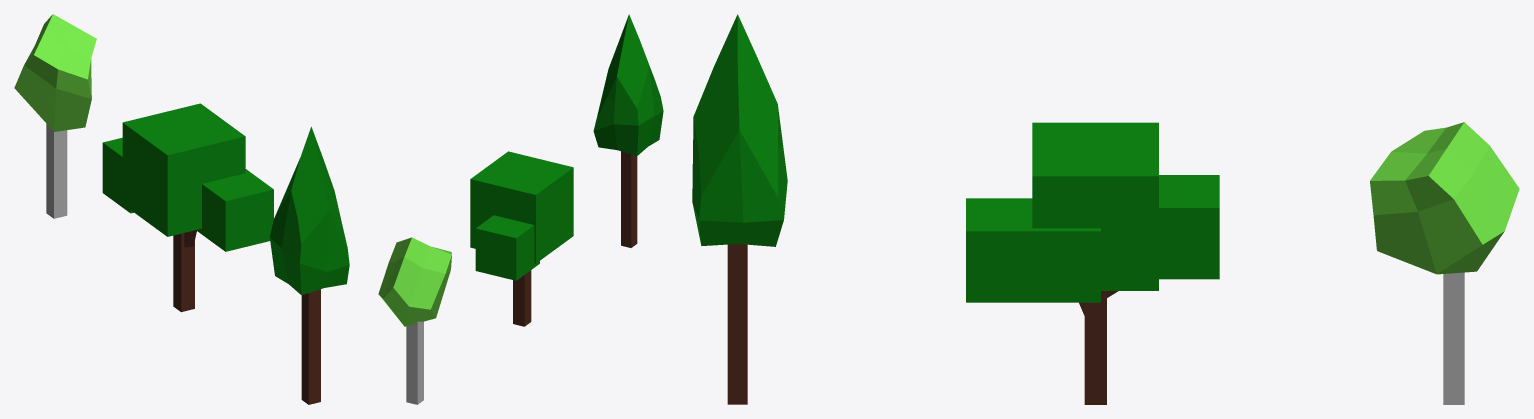
File: Trees.fbx
3 renders of one model, left to right at view 1: azimuth 30°, elevation 25°; view 2: azimuth 150°, elevation 25°; view 3: azimuth 270°, elevation 25°, orthographic. The views are drawn at different scales.
Visible parts, largest first — view 1: Cube, Cube.002, Cube.001; view 2: Cube, Cube.002, Cube.001; view 3: Cube, Cube.002, Cube.001.
Boxes of the visible parts, x1,y1,x2,y2 form: Cube: [102, 103, 273, 312]; Cube.002: [269, 126, 349, 404]; Cube.001: [14, 14, 96, 218]; Cube: [470, 151, 573, 326]; Cube.002: [593, 14, 663, 247]; Cube.001: [378, 237, 451, 404]; Cube: [966, 122, 1219, 404]; Cube.002: [692, 14, 787, 404]; Cube.001: [1370, 122, 1519, 404].
Bounding box in the file's own units: 375 × 1190 × 2310.
